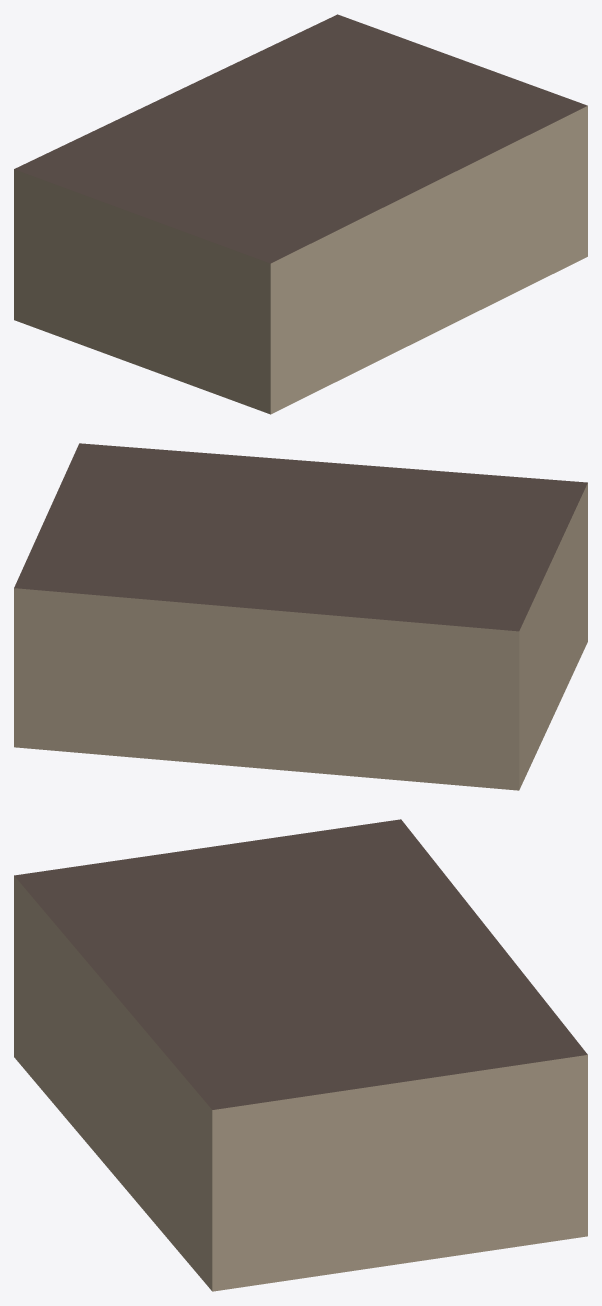
The picture shows the model from 3 angles, top to bottom: view 1: azimuth 30°, elevation 25°; view 2: azimuth 150°, elevation 25°; view 3: azimuth 270°, elevation 25°; orthographic projection. The views are drawn at different scales.
Parts seen in each view (by area): view 1: HP-w1512530030; view 2: HP-w1512530030; view 3: HP-w1512530030.
Part boxes in pixels (x1,y1,x2,y2): HP-w1512530030: (14, 14, 587, 414); HP-w1512530030: (14, 443, 587, 790); HP-w1512530030: (14, 819, 587, 1291).
Bounding box in the file's own units: 30.92 × 9 × 25.79.
